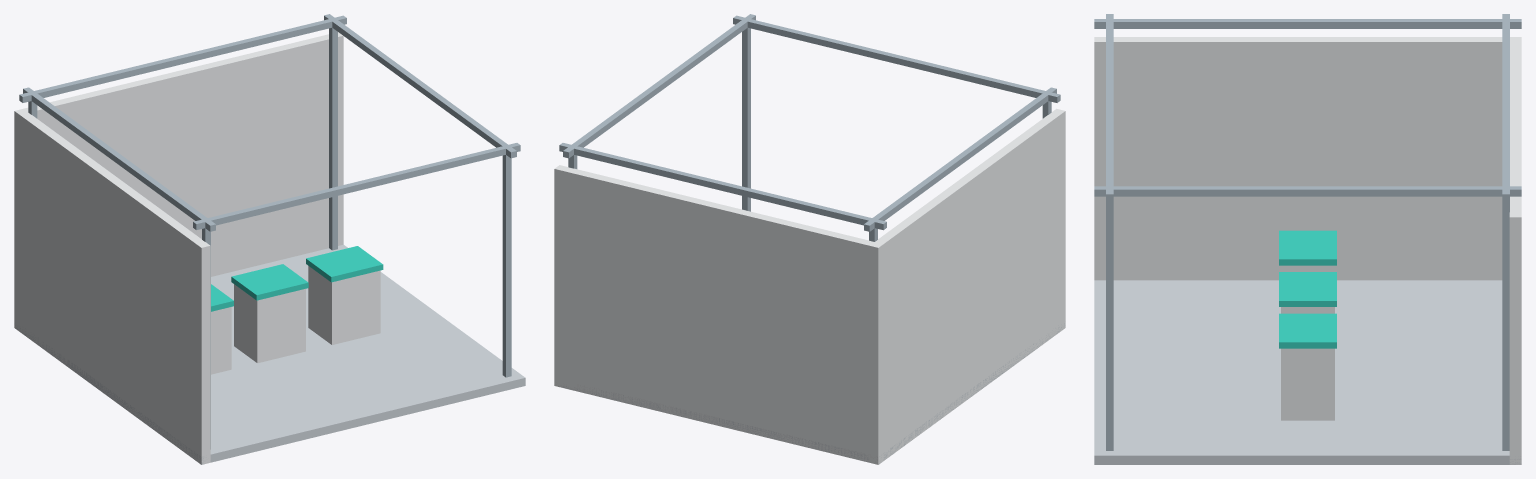
The picture shows the model from 3 angles, left to right: view 1: azimuth 30°, elevation 25°; view 2: azimuth 150°, elevation 25°; view 3: azimuth 270°, elevation 25°; orthographic projection. The views are drawn at different scales.
Parts seen in each view (by area): view 1: Exhibition Booth Concept; view 2: Exhibition Booth Concept; view 3: Exhibition Booth Concept.
Part boxes in pixels (left/top/right/bottom): Exhibition Booth Concept: left=14, top=14, right=525, bottom=464; Exhibition Booth Concept: left=554, top=14, right=1065, bottom=464; Exhibition Booth Concept: left=1094, top=14, right=1521, bottom=464.
Bounding box in the file's own units: 5 × 3.49 × 5.
